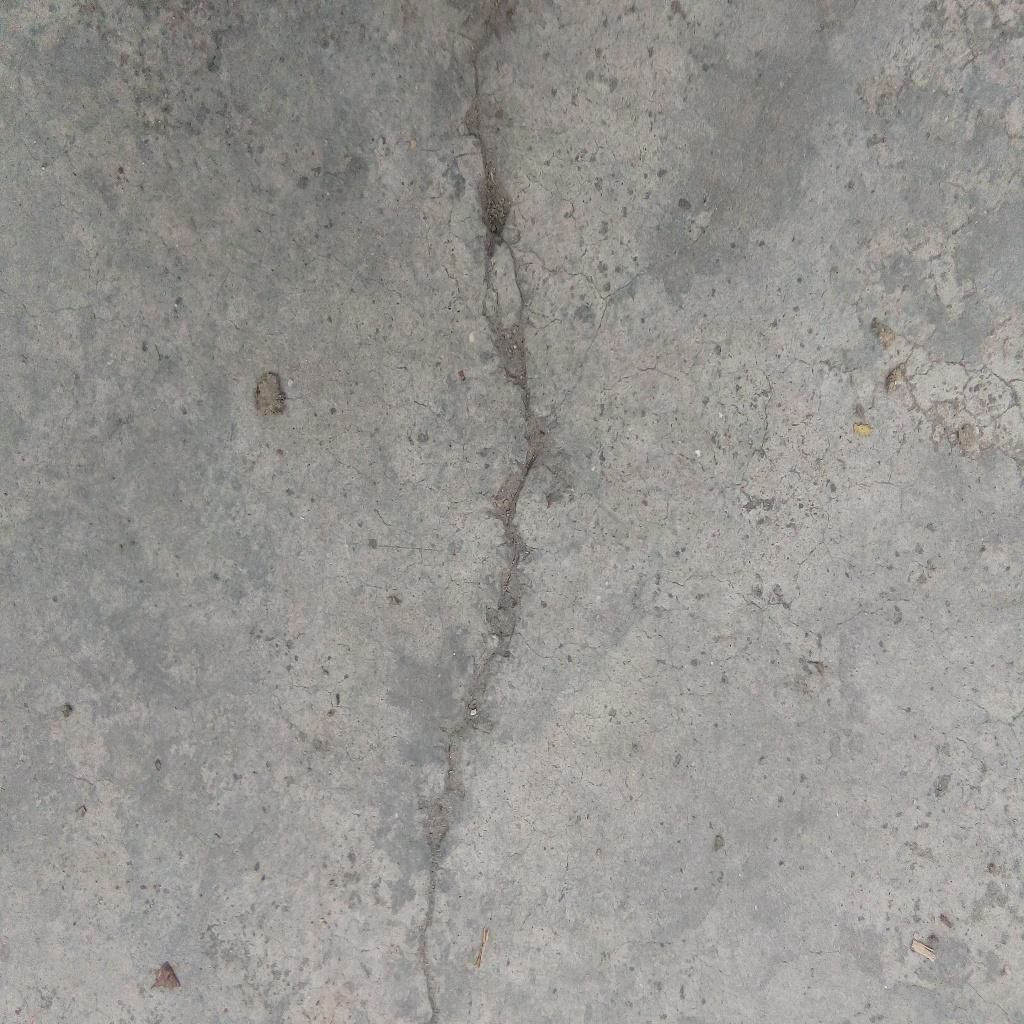Crack: (416, 1, 543, 1024)
Spalling: (254, 371, 285, 416)
